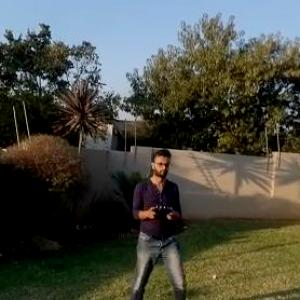follow: (128, 147, 188, 299)
